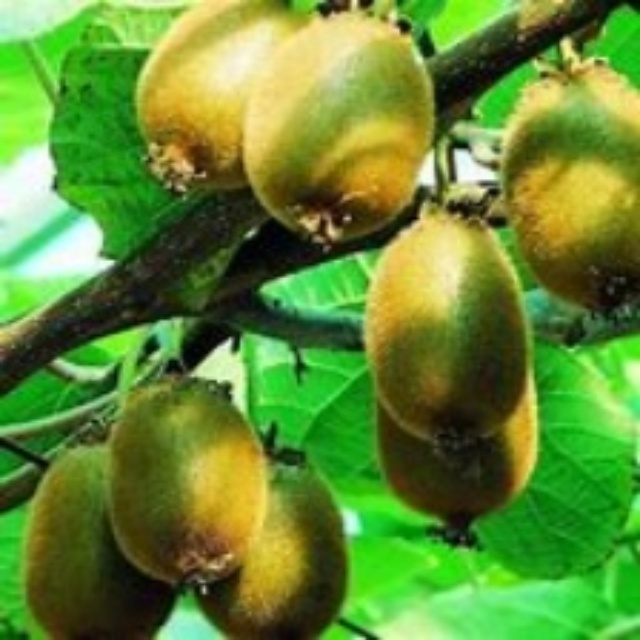kiwi: (144, 3, 430, 251), (347, 220, 541, 551), (102, 370, 268, 590), (505, 60, 639, 317), (16, 444, 171, 634), (200, 456, 354, 636)
